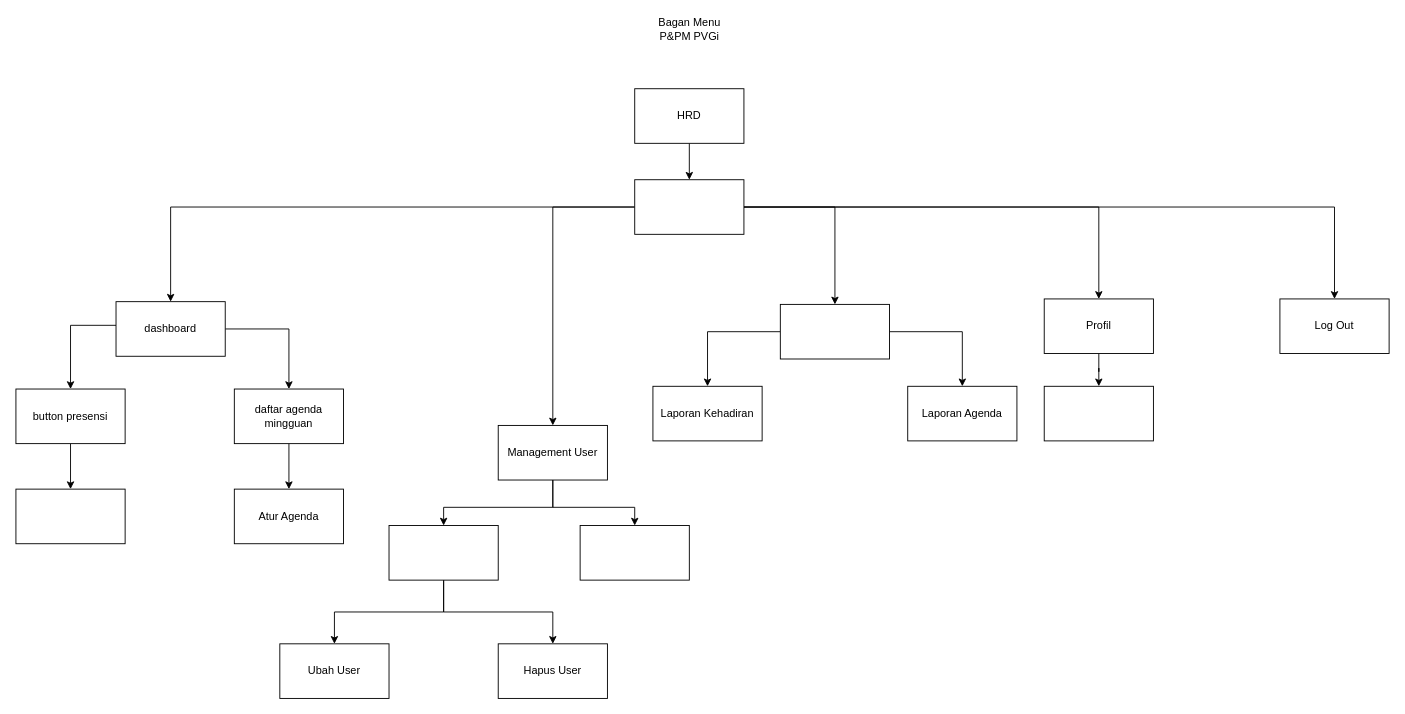
This 1405x714 diagram has some shape labels left out. The centre of each missing label's shape, as x and y in pixels:
"Atur presensi bulanan" goes at (x=70, y=516).
"Buat User" goes at (x=634, y=552).
"Daftar User" goes at (x=443, y=552).
"Edit Profil" goes at (x=1098, y=413).
"Laporan" goes at (x=834, y=331).
"Login" goes at (x=689, y=206).
